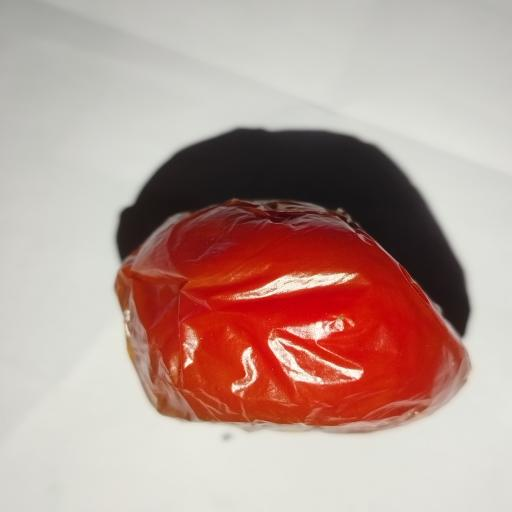spoiled: (116, 200, 469, 430)
